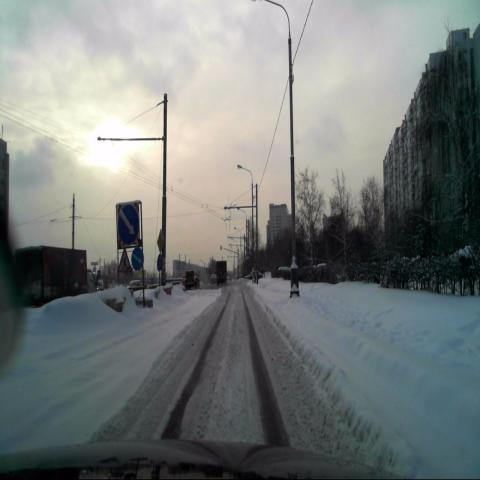1_25: (118, 248, 132, 273)
